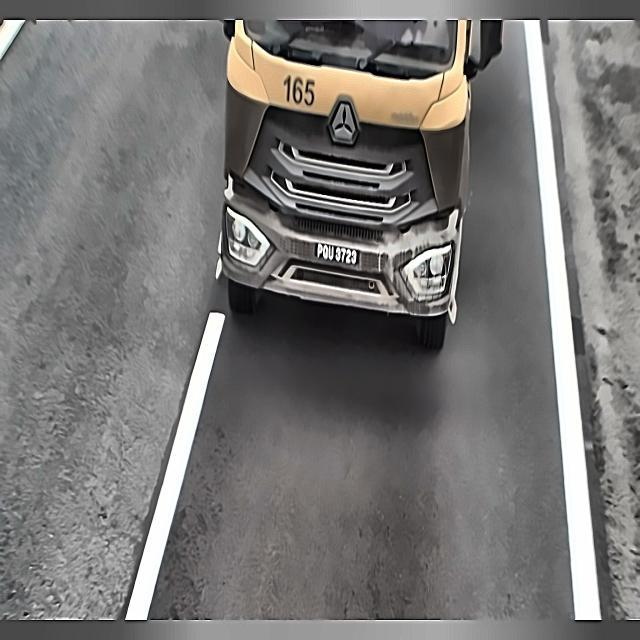car: (312, 236, 361, 271)
